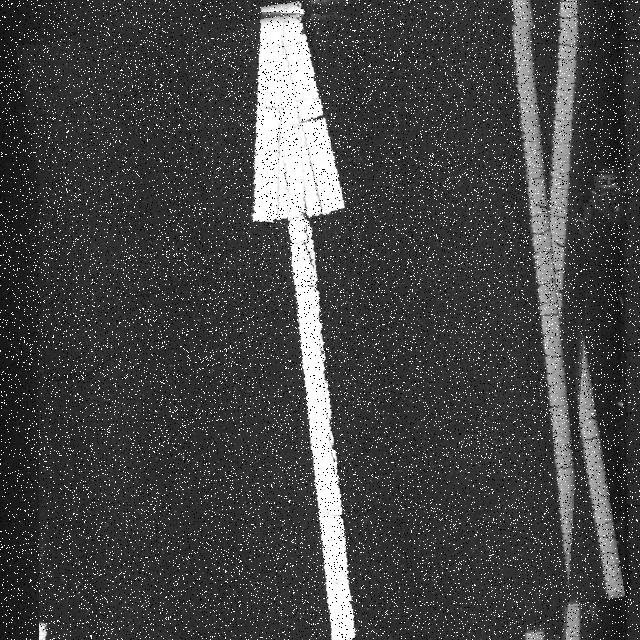forward: (39, 0, 602, 640)
